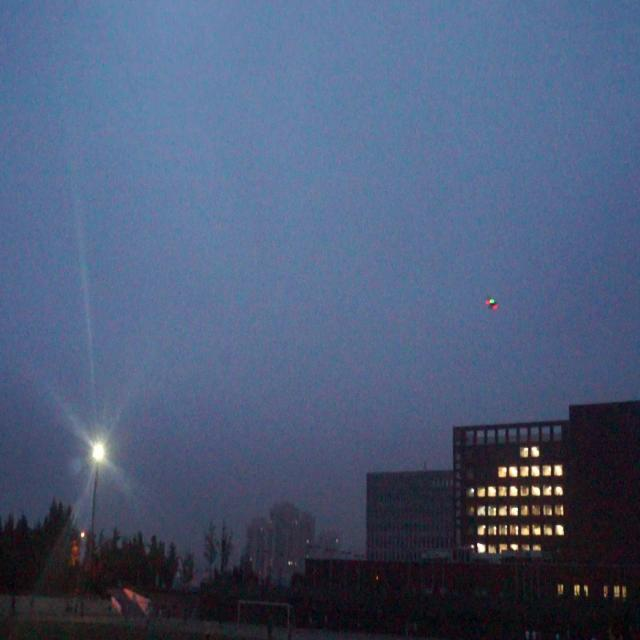UAV: (485, 298, 498, 310)
